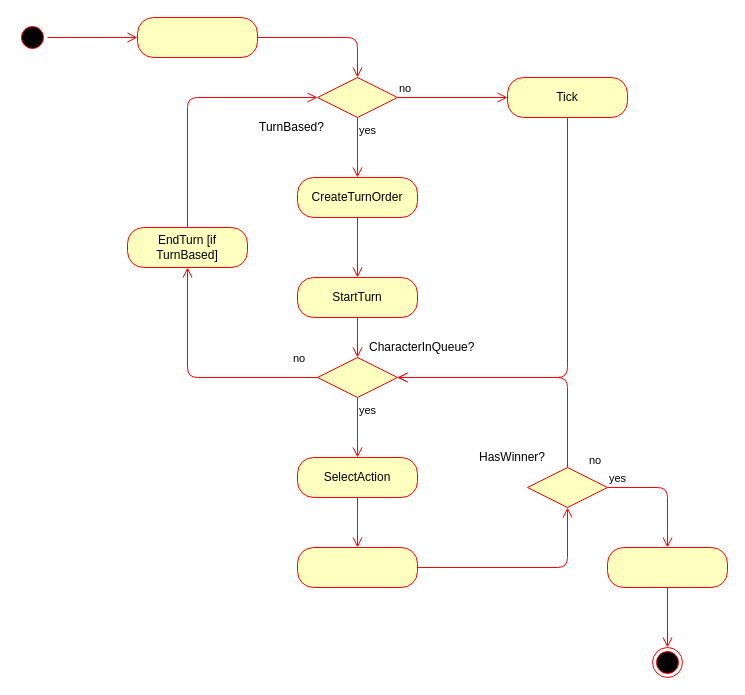
The diagram is 745 pixels wide and 695 high, and some of its shapes have lost their labels. Here are the shapes that lost their labels. From the top down, the box of each, then its label:
(136, 16, 258, 58): BattleStart
(296, 546, 418, 588): UseAction
(606, 546, 728, 588): BattleEnd
